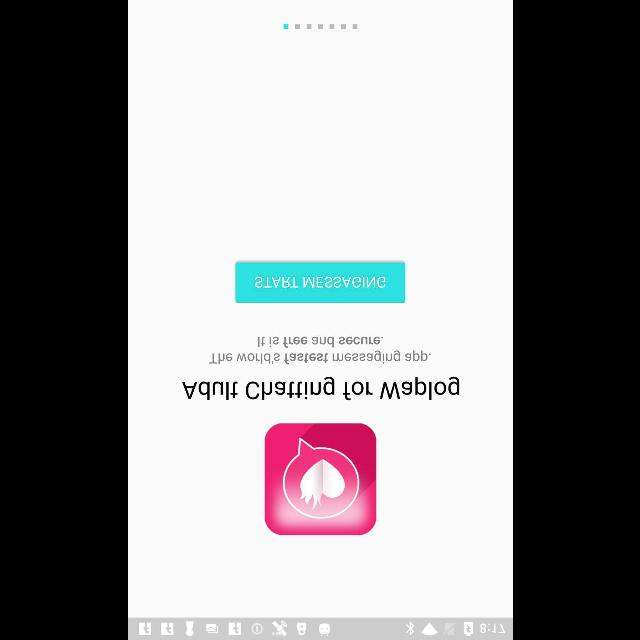image: (264, 423, 376, 535)
pageindicator: (283, 24, 357, 30)
text: (181, 376, 459, 400), (208, 336, 430, 364)
textbutton: (236, 263, 404, 303)
uppertaskbar: (128, 617, 512, 639)
